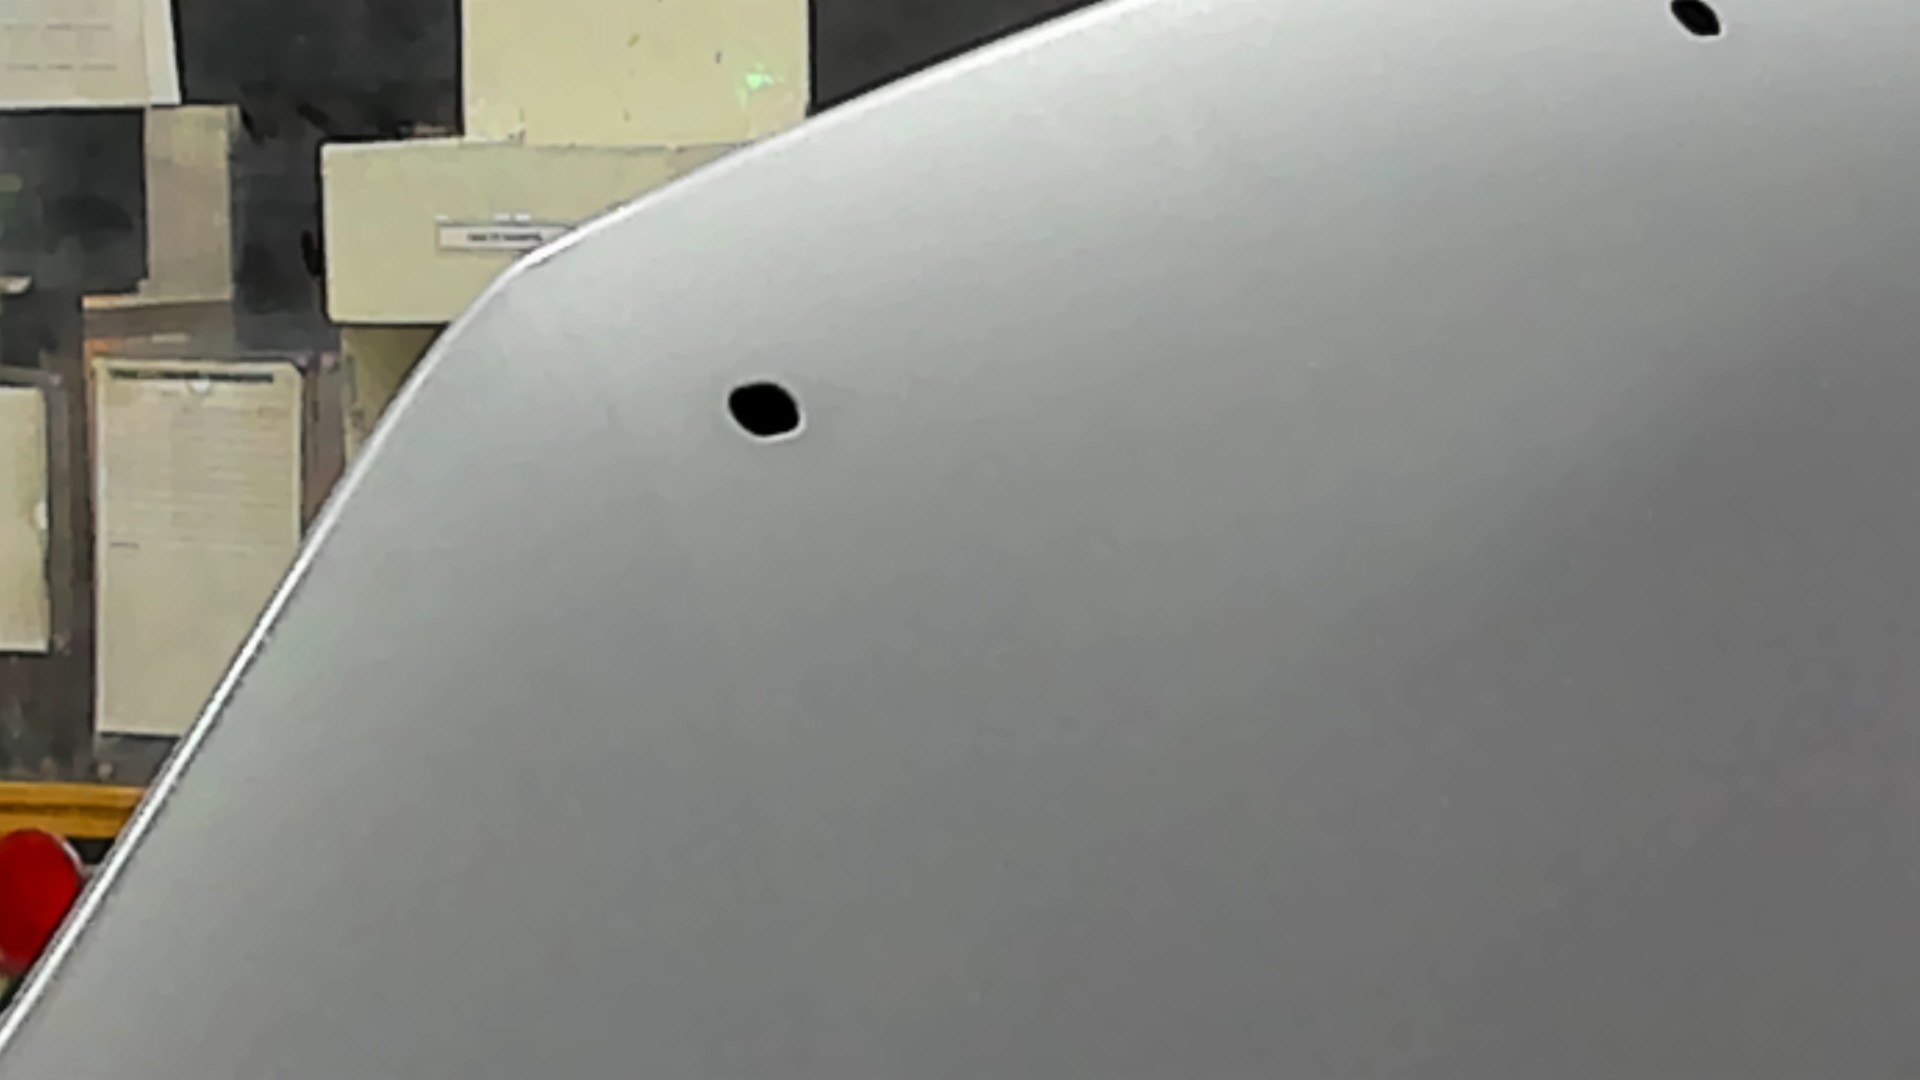chico: (716, 375, 816, 450), (1668, 1, 1727, 59)
